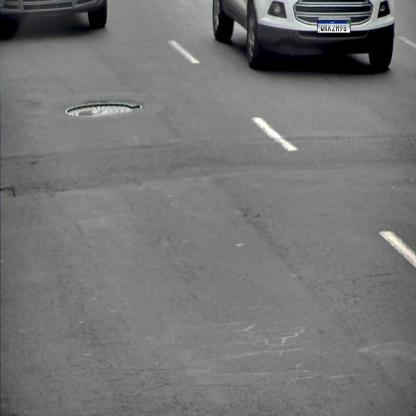PlacaM: (317, 20, 351, 33)
